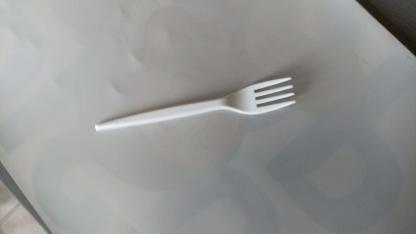Others: (94, 76, 296, 138)
